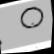no answer: (16, 1, 47, 33)
